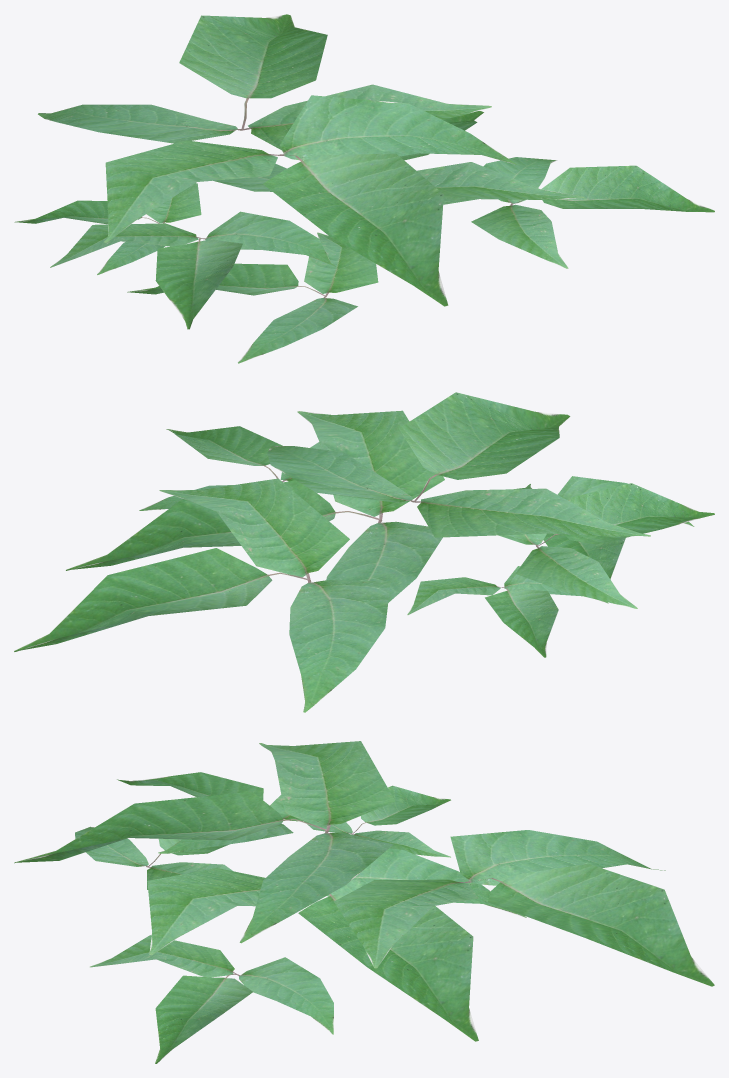
File: PoisonIvy1.fbx
3 views of the same model, one above another, from view 1: azimuth 30°, elevation 25°; view 2: azimuth 150°, elevation 25°; view 3: azimuth 270°, elevation 25° (orthographic). The views are drawn at different scales.
Visible parts, largest first — view 1: PoisonIvy1; view 2: PoisonIvy1; view 3: PoisonIvy1.
Part boxes in pixels (x1,y1,x2,y2): PoisonIvy1: (14,14,714,363); PoisonIvy1: (14,392,714,712); PoisonIvy1: (14,741,714,1063).
Size of the model in its own units: 36.42 by 6.67 by 40.11.
